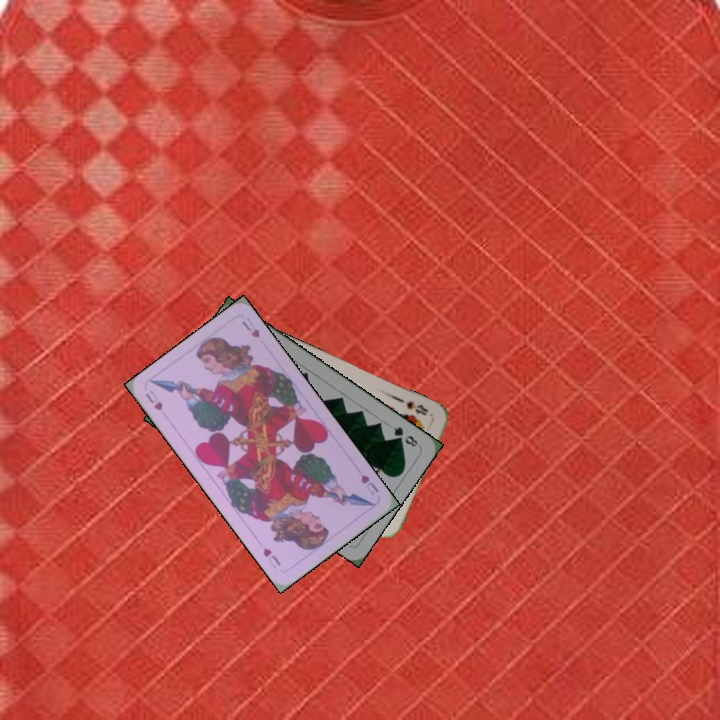G8: (389, 423, 422, 450)
HU: (357, 470, 381, 498), (141, 386, 165, 413)
S8: (402, 396, 431, 418)
